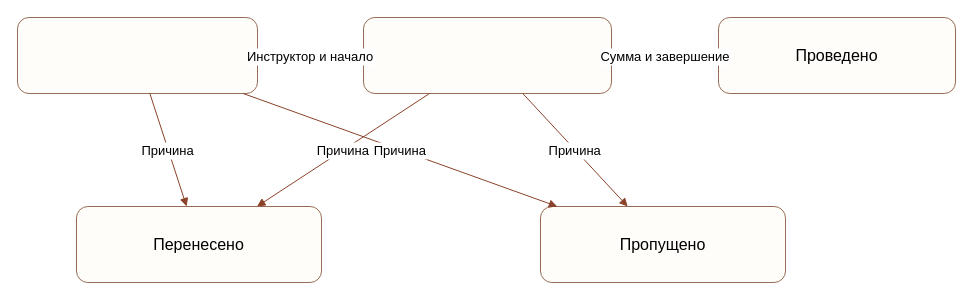
Some shapes in this 973 by 300 pixel diagram are drawn without their labels. The centre of each missing label's shape, as x and y in pixels:
"Запланировано" belongs at pixel 137 55.
"Подтверждено" belongs at pixel 487 55.
